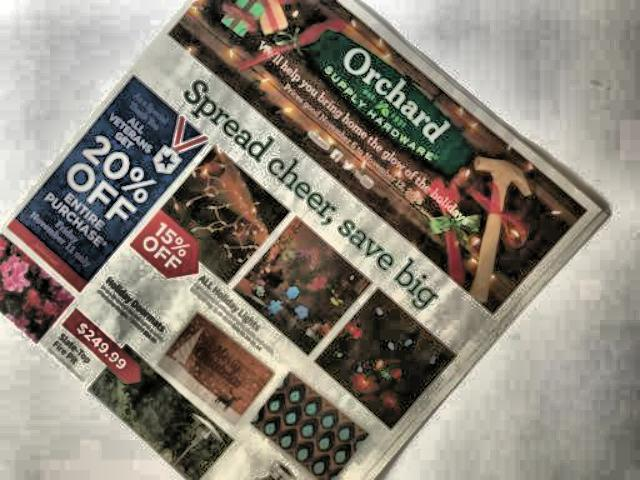Paper: (0, 0, 614, 480)
